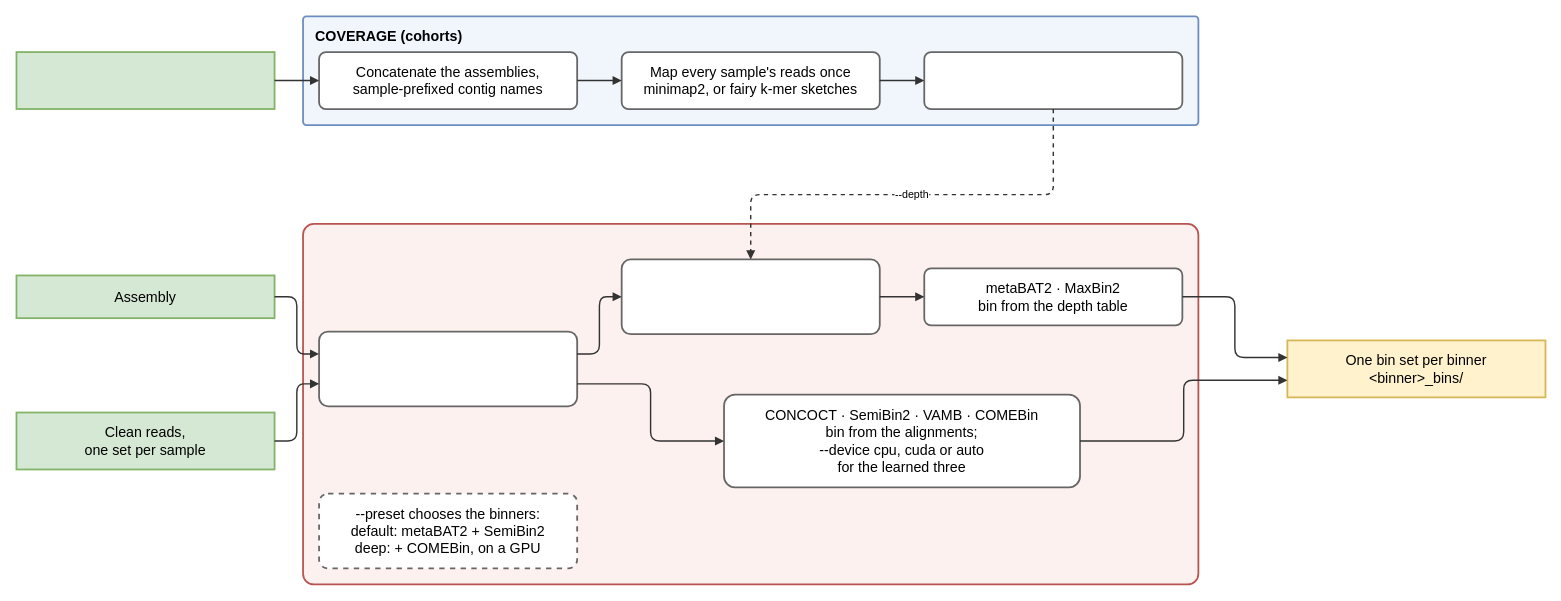
Image size: 1561x601. Some labels were removed from this diagram. Each missing label, with the box of its shape:
BINNING: (302, 222, 1199, 585)
Depth table reads at ≥ 90% identity (--min-identity): (620, 258, 880, 335)
Every sample's assembly: (15, 51, 275, 109)
Map each sample's reads minimap2 (default), bwa or bwa-mem2: (318, 330, 578, 407)
One depth table across samples, split per assembly: (923, 51, 1183, 109)
